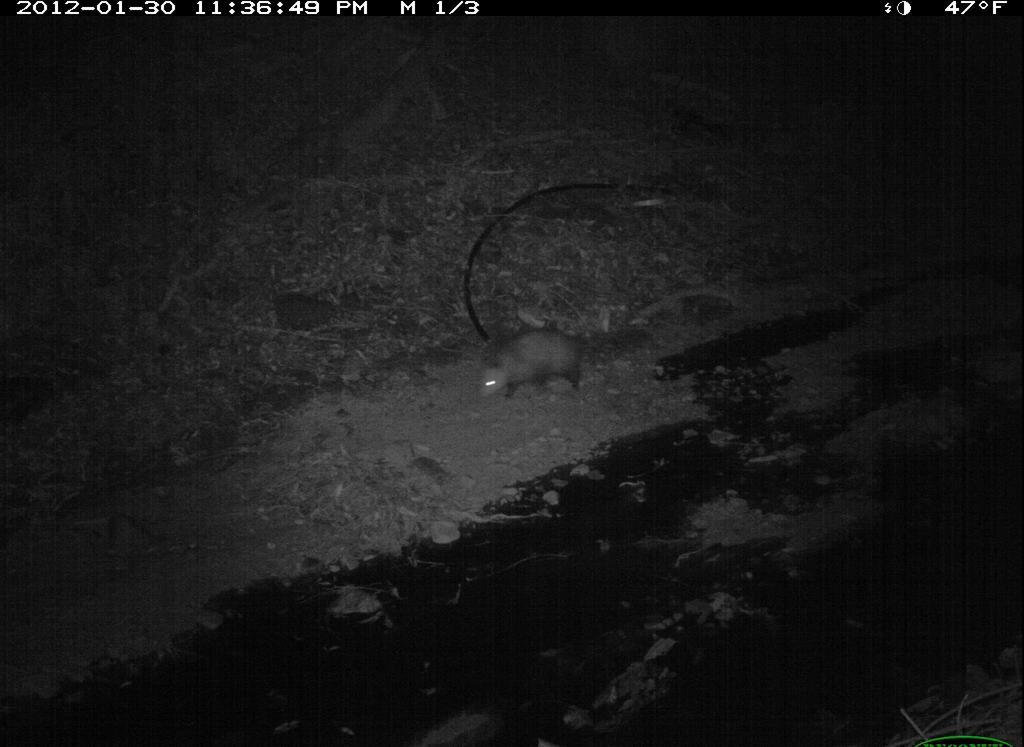opossum: (465, 299, 662, 415)
